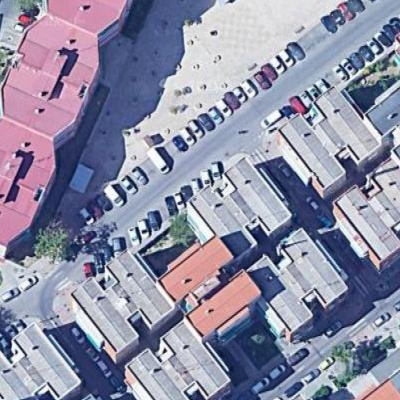tree: (30, 220, 75, 266), (164, 211, 196, 252)
